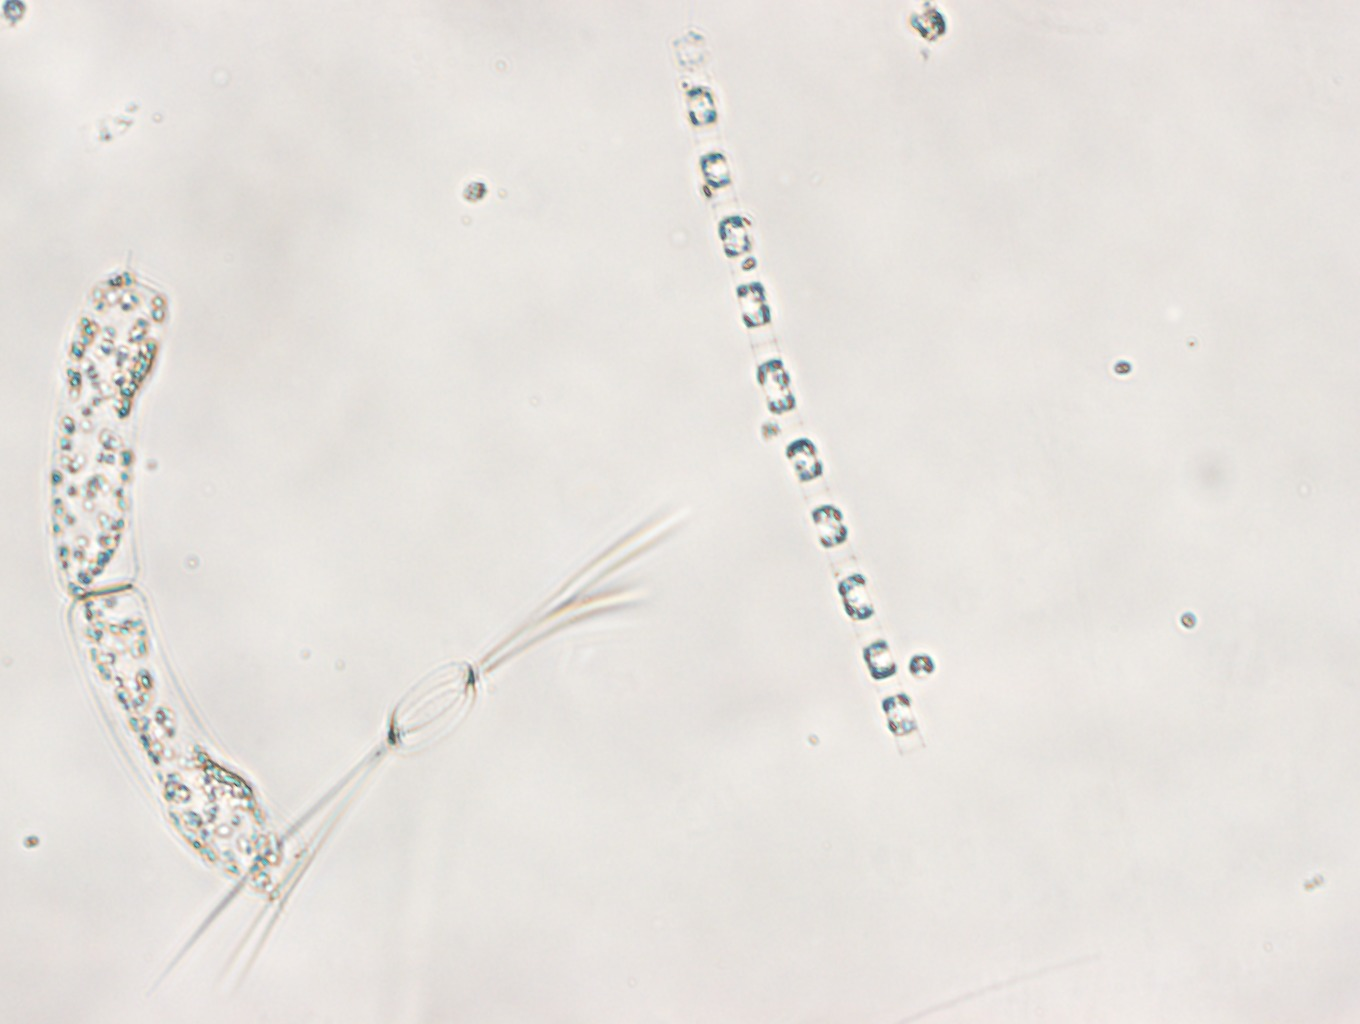chaetoceros: (154, 502, 695, 995)
skeletonema: (672, 31, 924, 757)
